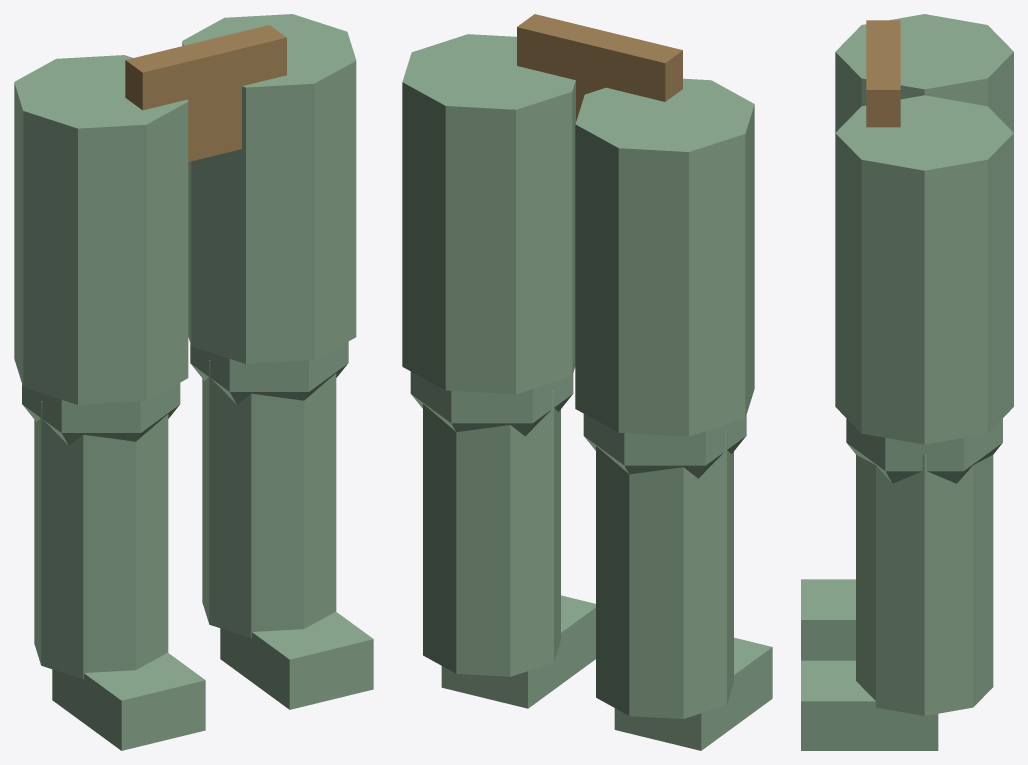
The model's file is troll_legs.dae.
3 renders of one model, left to right at view 1: azimuth 30°, elevation 25°; view 2: azimuth 150°, elevation 25°; view 3: azimuth 270°, elevation 25°, orthographic. The views are drawn at different scales.
Parts seen in each view (by area): view 1: Cylinder, Cylinder.002, Cylinder.001, Cylinder.003, Cube.002, Cube, Cube.001, Sphere, Sphere.001; view 2: Cylinder, Cylinder.002, Cylinder.001, Cylinder.003, Cube.002, Cube, Cube.001, Sphere, Sphere.001; view 3: Cylinder.002, Cylinder.003, Cylinder, Cube.001, Sphere.001, Cube, Cube.002.
Boxes of the visible parts, bbox=[...] form: Cylinder: bbox=[14, 55, 188, 404]; Cylinder.002: bbox=[182, 14, 356, 363]; Cylinder.001: bbox=[34, 401, 168, 679]; Cylinder.003: bbox=[202, 360, 336, 638]; Cube.002: bbox=[125, 25, 286, 161]; Cube: bbox=[52, 652, 205, 750]; Cube.001: bbox=[220, 611, 373, 709]; Sphere: bbox=[22, 383, 180, 445]; Sphere.001: bbox=[190, 341, 348, 404]; Cylinder: bbox=[575, 78, 754, 436]; Cylinder.002: bbox=[402, 34, 575, 394]; Cylinder.001: bbox=[596, 432, 733, 718]; Cylinder.003: bbox=[423, 390, 560, 676]; Cube.002: bbox=[517, 14, 682, 121]; Cube: bbox=[614, 637, 772, 750]; Cube.001: bbox=[441, 595, 595, 708]; Sphere: bbox=[583, 414, 746, 478]; Sphere.001: bbox=[410, 371, 573, 436]; Cylinder.002: bbox=[835, 95, 1013, 444]; Cylinder.003: bbox=[856, 454, 993, 715]; Cylinder: bbox=[835, 14, 1013, 132]; Cube.001: bbox=[801, 660, 938, 750]; Sphere.001: bbox=[846, 418, 1002, 483]; Cube: bbox=[801, 579, 855, 660]; Cube.002: bbox=[866, 20, 900, 127].
Bounding box in the file's own units: 54 × 31 × 102.
